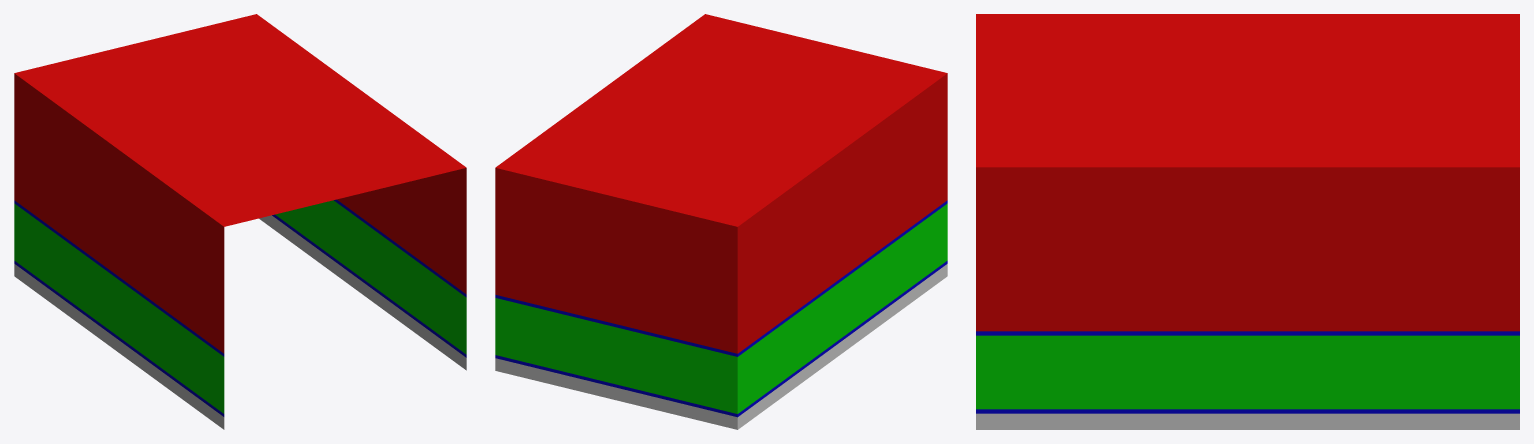
The model's file is SM_Room4x6Backsides.fbx.
The picture shows the model from 3 angles, left to right: view 1: azimuth 30°, elevation 25°; view 2: azimuth 150°, elevation 25°; view 3: azimuth 270°, elevation 25°; orthographic projection. The views are drawn at different scales.
Parts seen in each view (by area): view 1: SM_Room4x6Backsides; view 2: SM_Room4x6Backsides; view 3: SM_Room4x6Backsides.
Part boxes in pixels (box(x1,y1,x2,y2)): SM_Room4x6Backsides: box(14, 14, 466, 429); SM_Room4x6Backsides: box(495, 14, 947, 429); SM_Room4x6Backsides: box(976, 14, 1519, 429).
Bounding box in the file's own units: 400 × 320 × 600.
